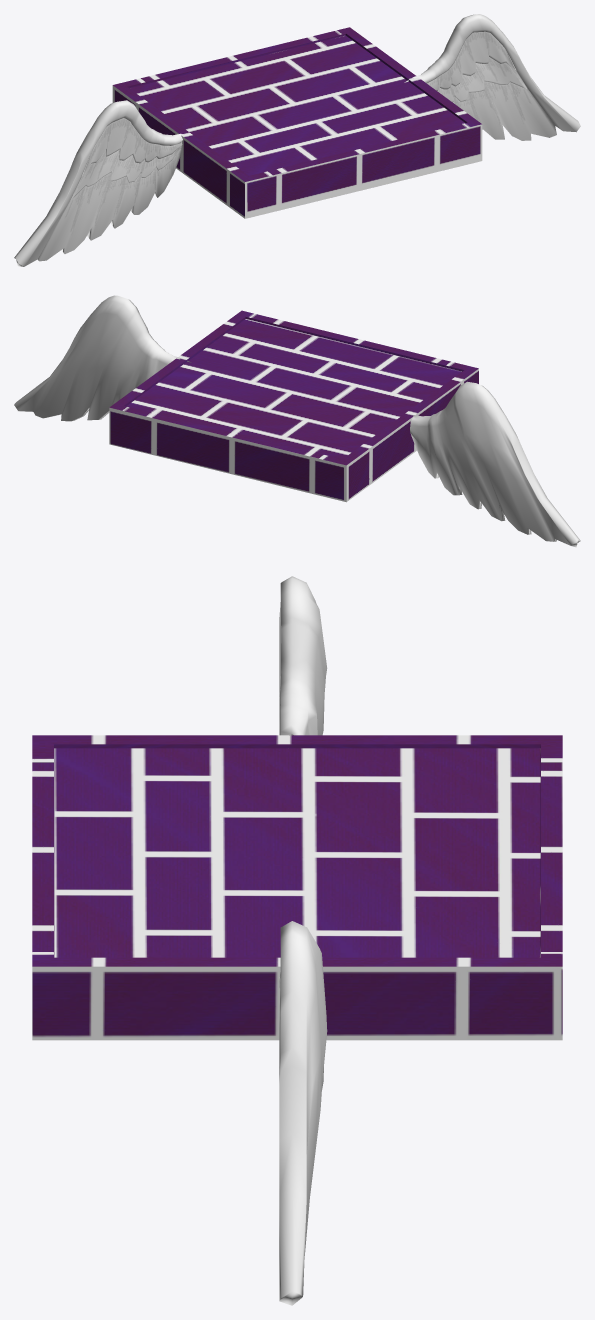
The model's file is purple_platform_combine.fbx.
3 views of the same model, one above another, from view 1: azimuth 30°, elevation 25°; view 2: azimuth 150°, elevation 25°; view 3: azimuth 270°, elevation 25° (orthographic). The views are drawn at different scales.
Parts seen in each view (by area): view 1: purple_platform_combine; view 2: purple_platform_combine; view 3: purple_platform_combine.
Boxes of the visible parts, x1,y1,x2,y2 form: purple_platform_combine: (14,14,580,266); purple_platform_combine: (14,295,580,547); purple_platform_combine: (32,576,562,1305).
Bounding box in the file's own units: 303 × 72.31 × 124.
Materials: 1 (1 with a texture image).
